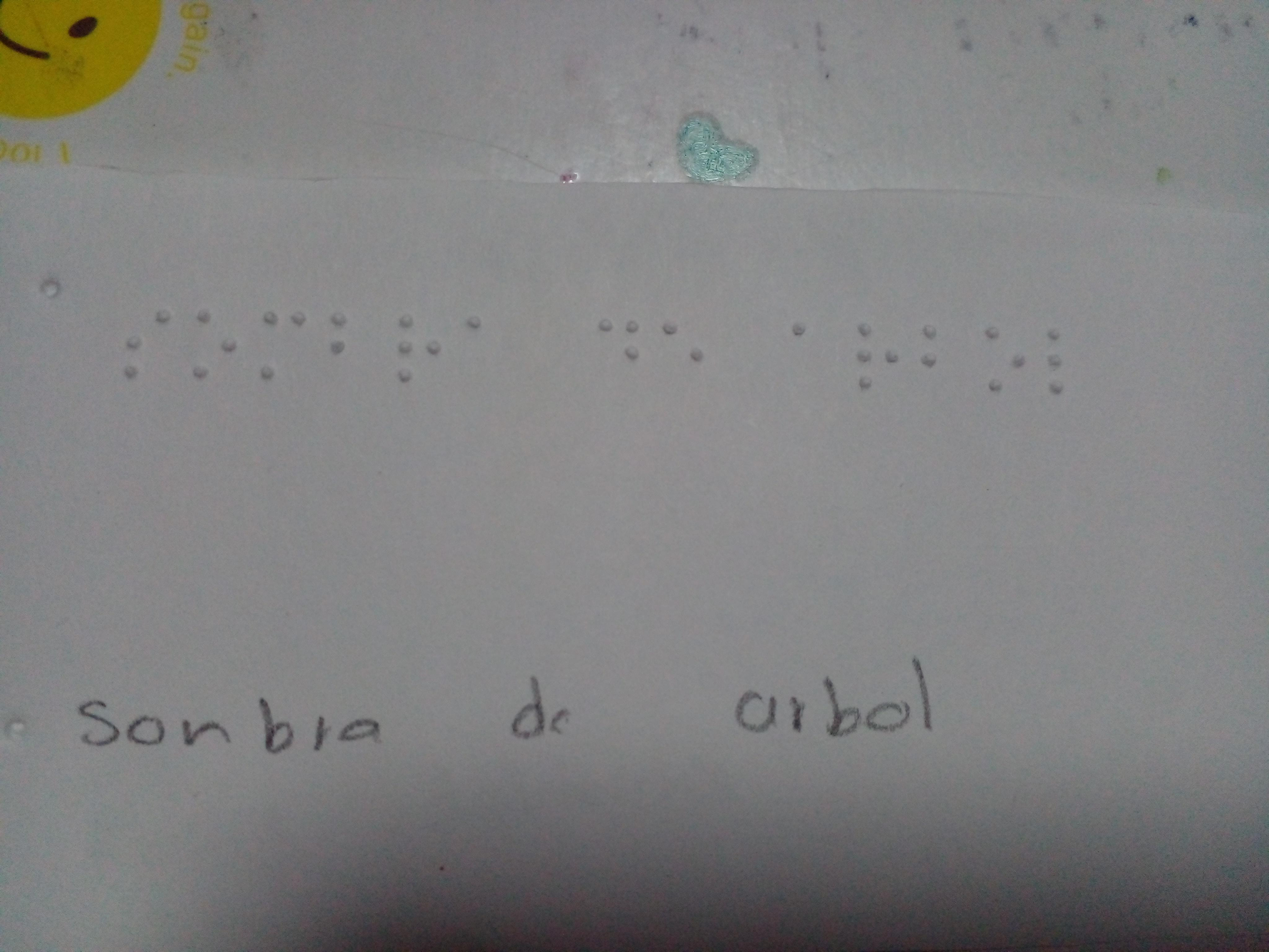a: (457, 304, 507, 349), (784, 305, 826, 356)
b: (314, 302, 361, 373), (911, 308, 945, 384)
d: (595, 308, 654, 370)
e: (654, 313, 717, 372)
l: (1029, 311, 1078, 409)
m: (251, 298, 310, 381)
o: (191, 302, 235, 392), (982, 316, 1027, 401)
r: (389, 307, 454, 395), (857, 301, 902, 406)
s: (118, 290, 175, 386)
